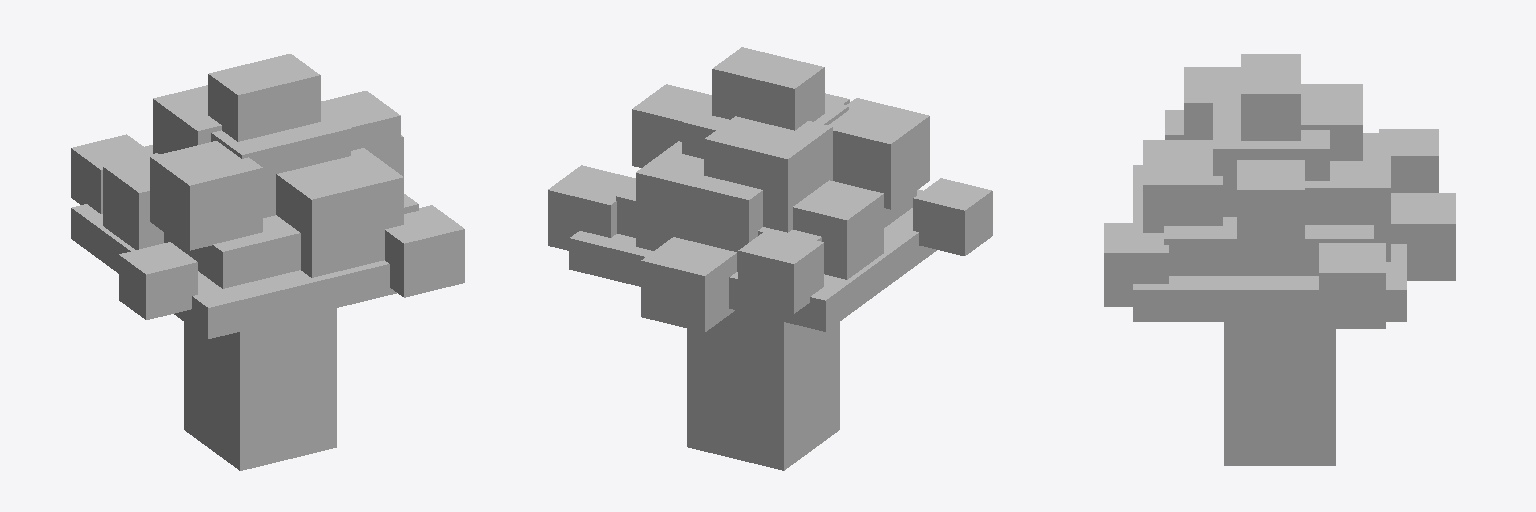
Rendered from tree_3.obj.
The picture shows the model from 3 angles: view 1: azimuth 30°, elevation 25°; view 2: azimuth 150°, elevation 25°; view 3: azimuth 270°, elevation 25°; orthographic projection.
Visible parts, largest first — view 1: Plane_Leaves, Plane.001_Tree_Bark.001; view 2: Plane_Leaves, Plane.001_Tree_Bark.001; view 3: Plane_Leaves, Plane.001_Tree_Bark.001.
Part boxes in pixels (left/top/right/bottom): Plane_Leaves: left=71, top=54, right=464, bottom=338; Plane.001_Tree_Bark.001: left=184, top=308, right=336, bottom=470; Plane_Leaves: left=548, top=47, right=992, bottom=332; Plane.001_Tree_Bark.001: left=687, top=310, right=839, bottom=470; Plane_Leaves: left=1104, top=54, right=1455, bottom=328; Plane.001_Tree_Bark.001: left=1224, top=322, right=1335, bottom=465.
Bounding box in the file's own units: 6.89 × 7.24 × 6.29.